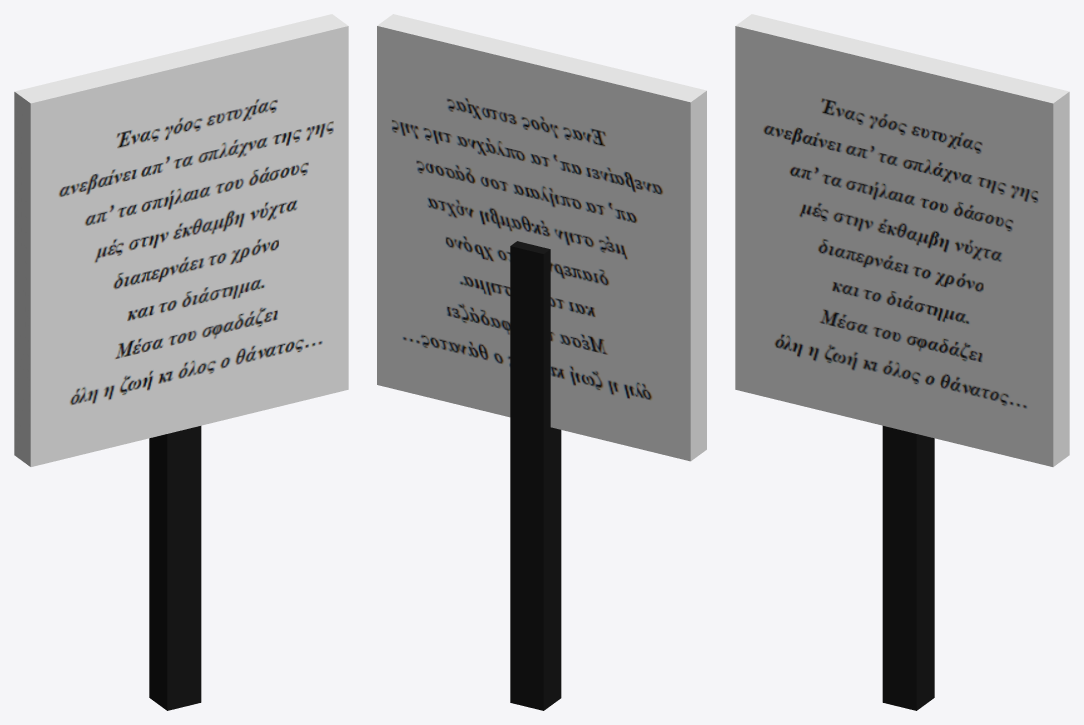
The picture shows the model from 3 angles, left to right: view 1: azimuth 30°, elevation 25°; view 2: azimuth 150°, elevation 25°; view 3: azimuth 330°, elevation 25°; orthographic projection.
Visible parts, largest first — view 1: Cube.001; view 2: Cube.001; view 3: Cube.001.
Boxes of the visible parts, x1=… form: Cube.001: x1=14, y1=14, x2=348, y2=710; Cube.001: x1=377, y1=14, x2=706, y2=710; Cube.001: x1=735, y1=14, x2=1069, y2=710.
Bounding box in the file's own units: 91.43 × 178 × 11.61.
Materials: 2 (1 with a texture image).
